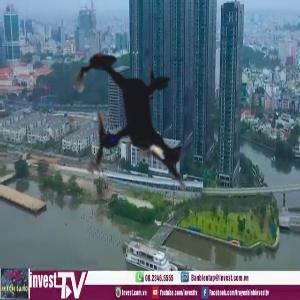drone: (10, 1, 249, 240)
